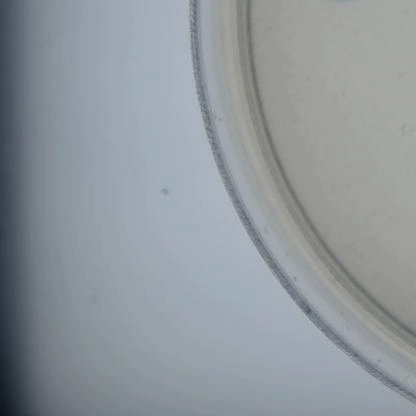worm: (386, 117, 416, 143)
